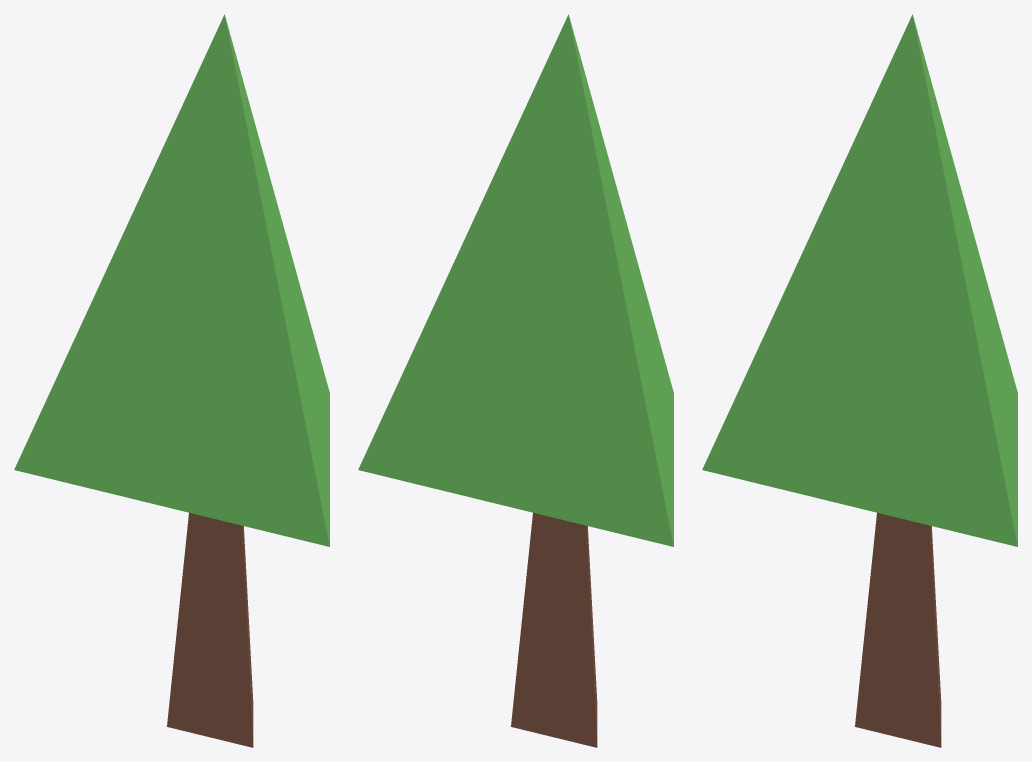
The model's file is PineObj.fbx.
3 renders of one model, left to right at view 1: azimuth 30°, elevation 25°; view 2: azimuth 150°, elevation 25°; view 3: azimuth 270°, elevation 25°, orthographic.
Parts seen in each view (by area): view 1: Pine; view 2: Pine; view 3: Pine.
Boxes of the visible parts, x1=… form: Pine: x1=14, y1=14, x2=329, y2=747; Pine: x1=358, y1=14, x2=673, y2=747; Pine: x1=702, y1=14, x2=1017, y2=747.
Bounding box in the file's own units: 368 × 793 × 318.
